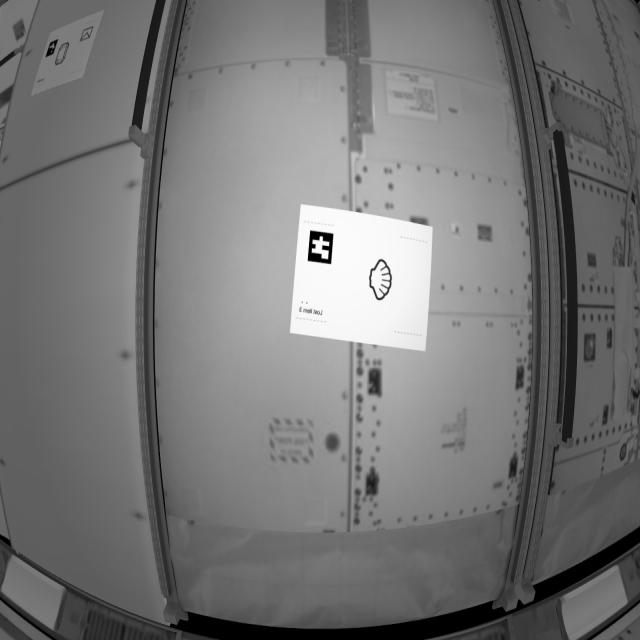emerald: (53, 42, 72, 68)
letter: (80, 26, 96, 46)
shell: (366, 254, 398, 311)
